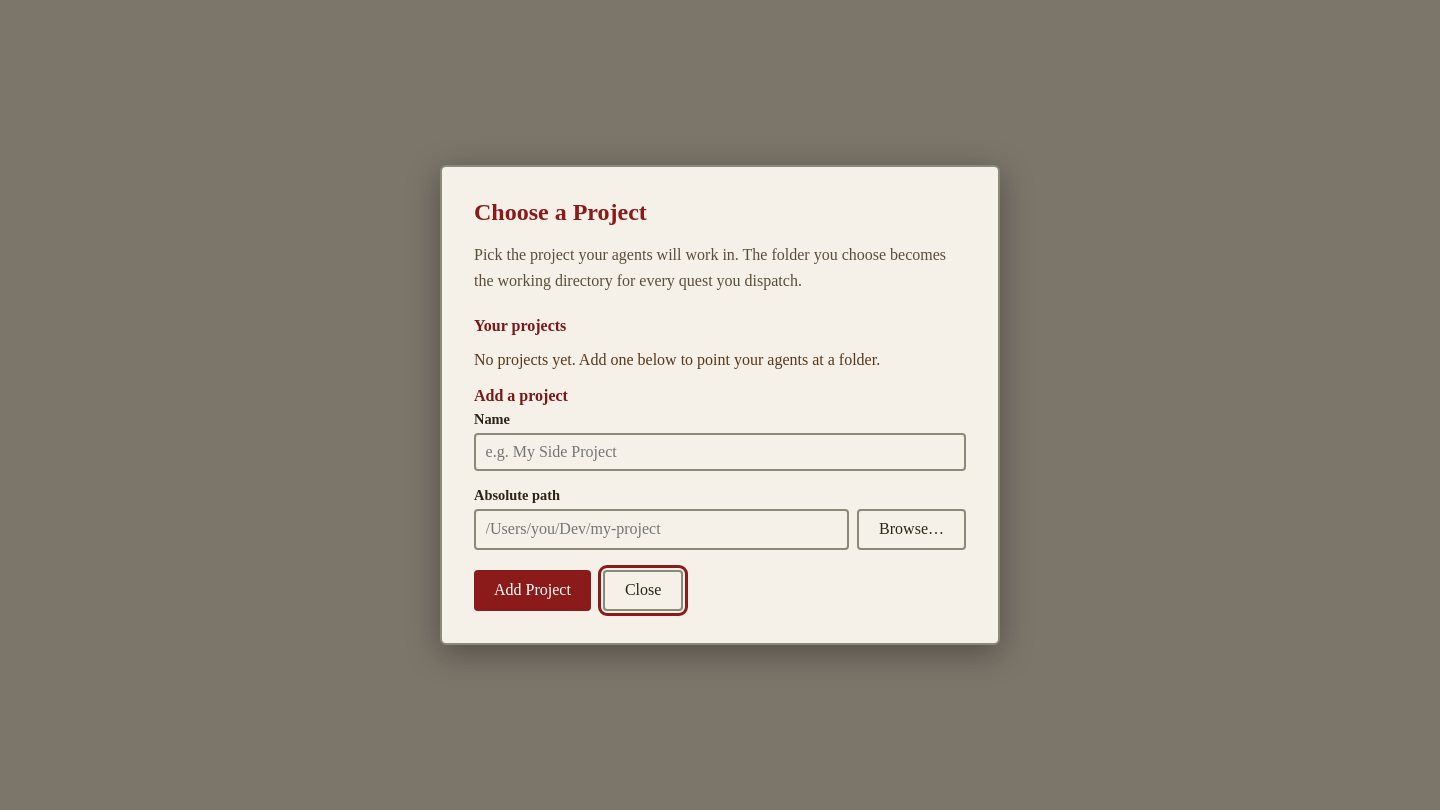
Test: ProjectPickerModal › inline error appears when name is empty on submit
This screenshot has width=1440, height=810.
Type "/tmp/x" into the field labelled "Absolute path". click: (662, 529)
box: top-left (474, 509), bottom-right (849, 550)
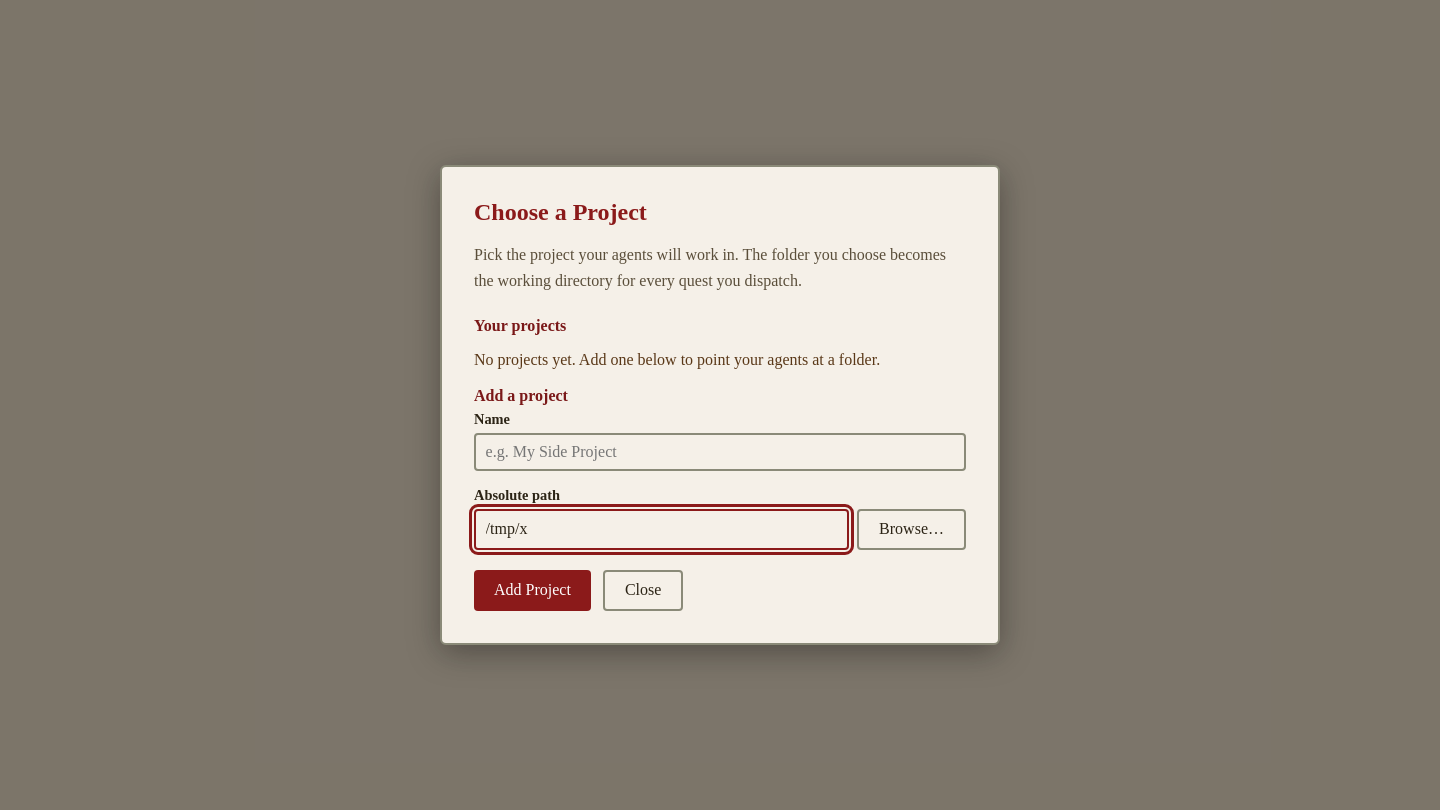
Click the button "Add Project". click: (532, 590)
box: top-left (474, 570), bottom-right (591, 611)
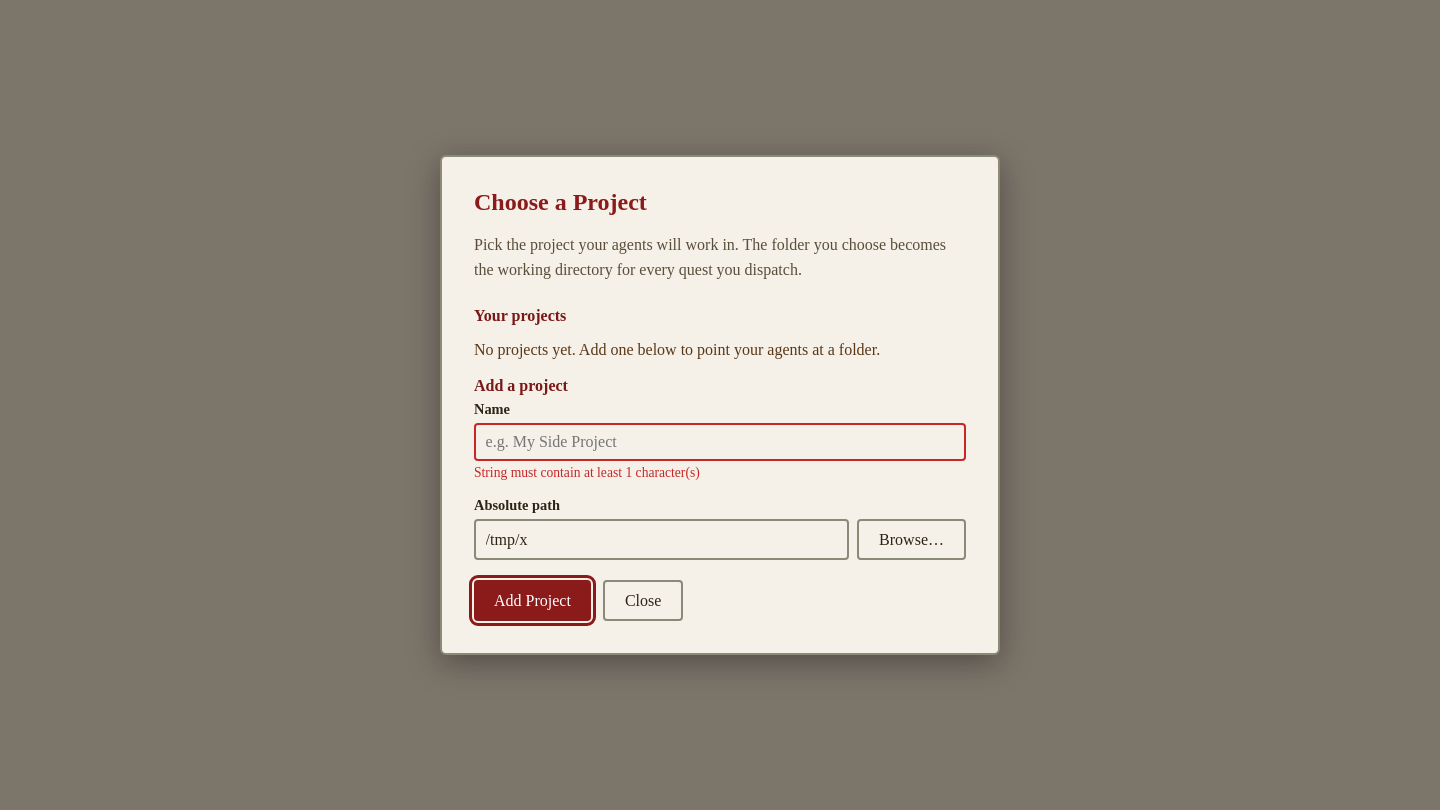
Now the text "String must contain at least 1 character(s)" is shown, box top-left (474, 465), bottom-right (700, 480)
